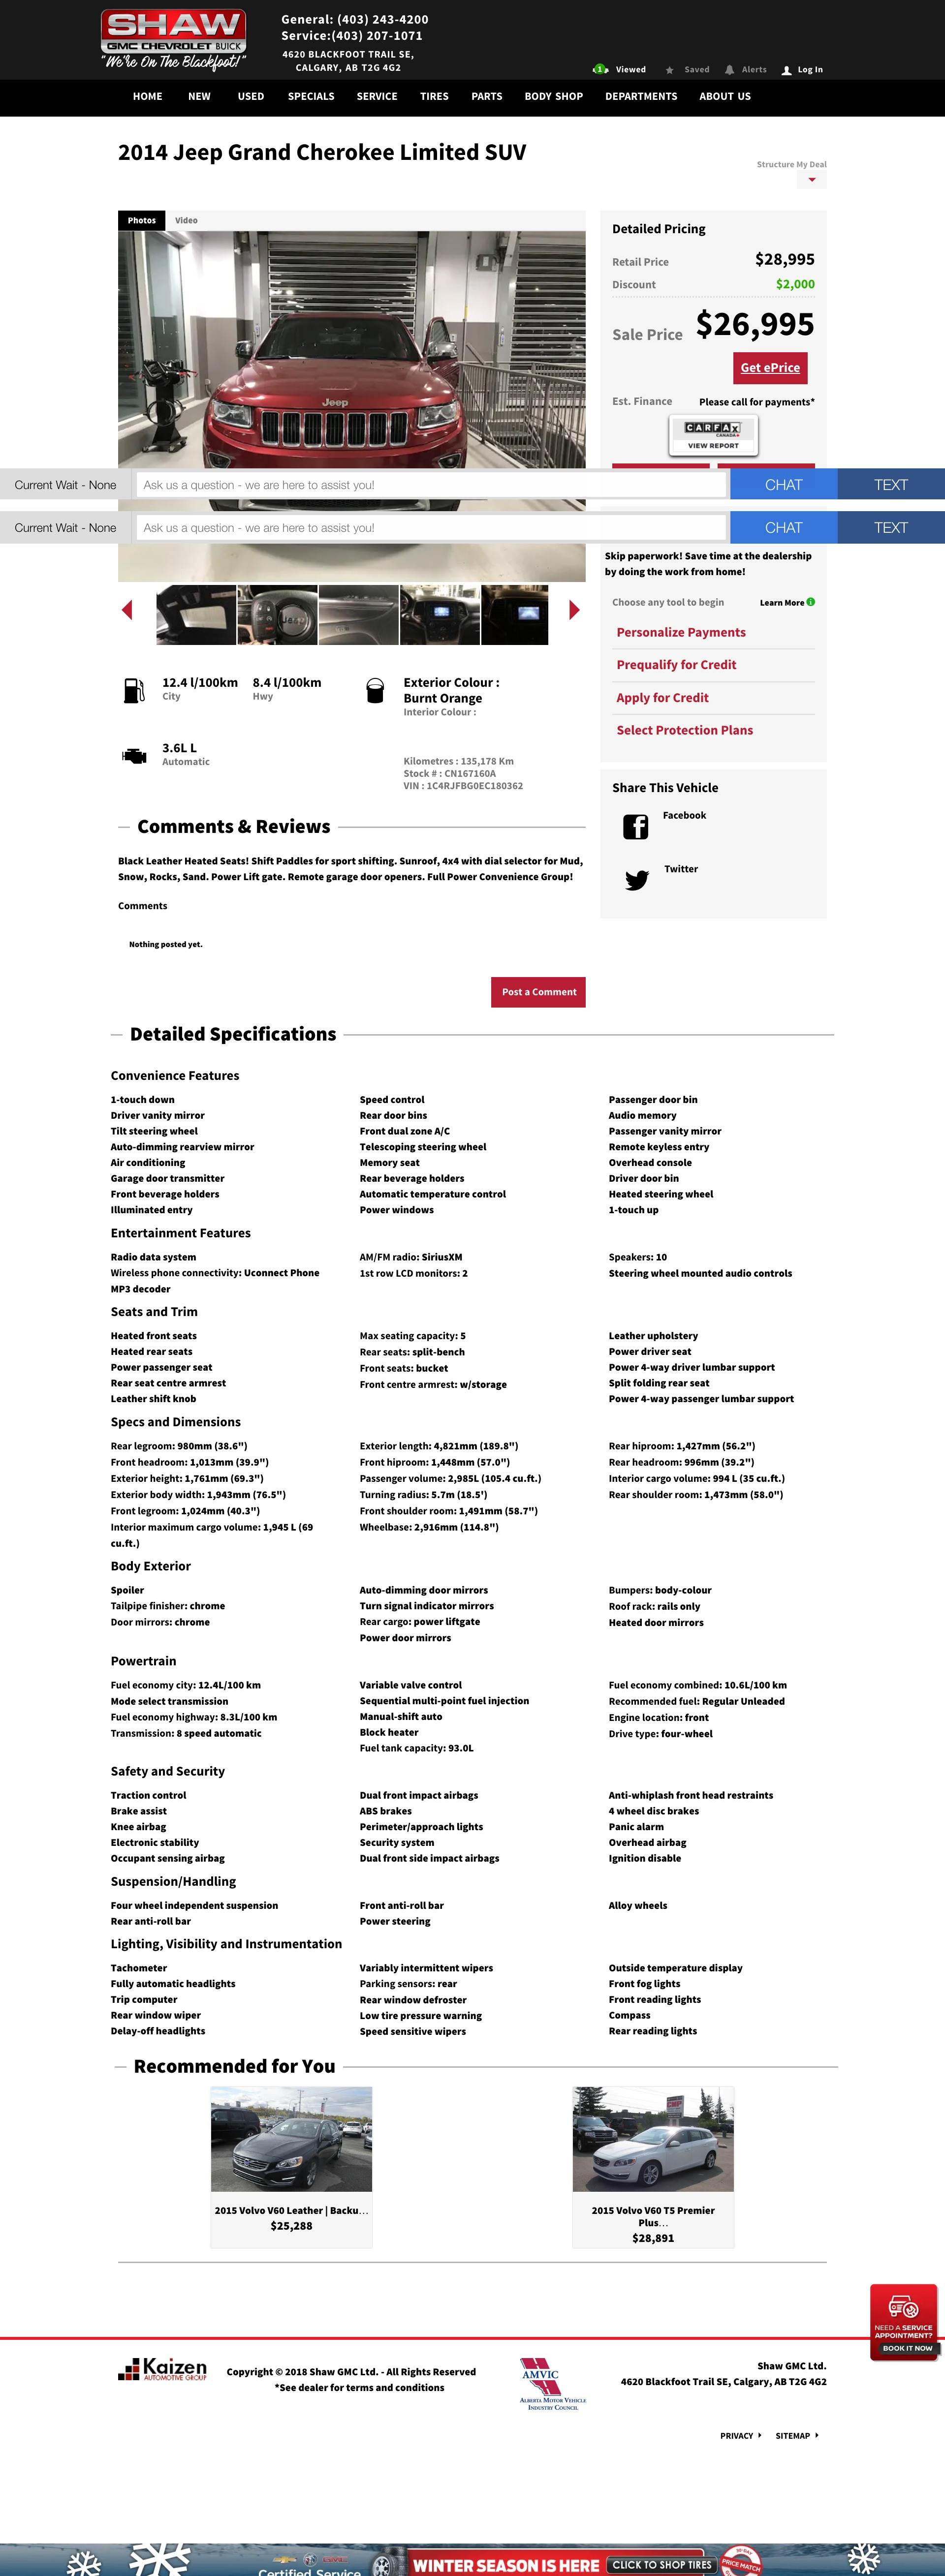car: (569, 600, 580, 621)
